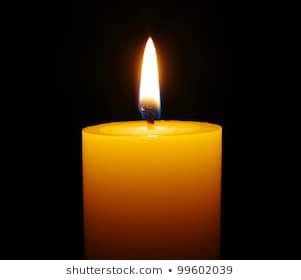fire: (137, 33, 161, 119)
